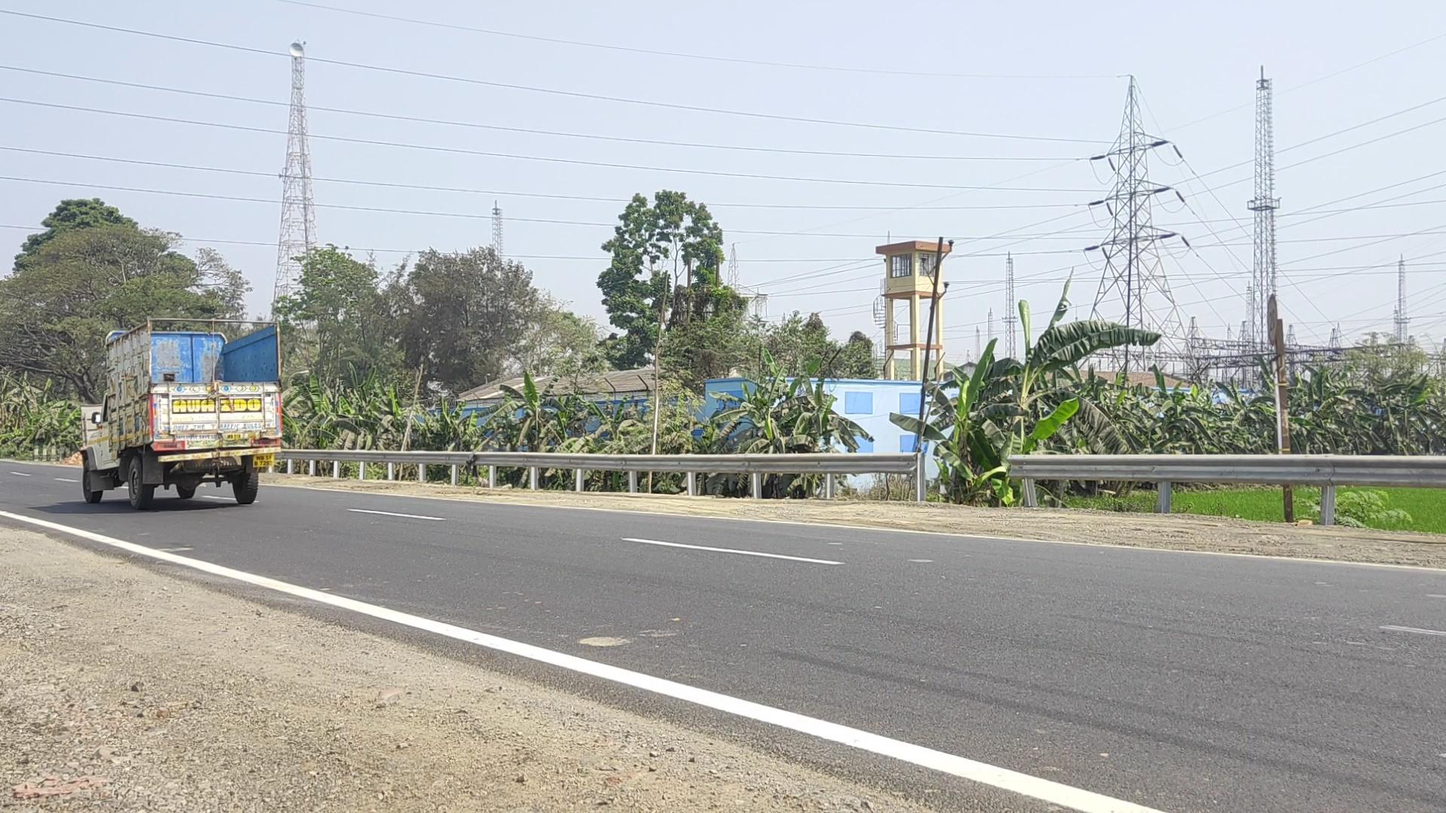van: (79, 315, 283, 510)
